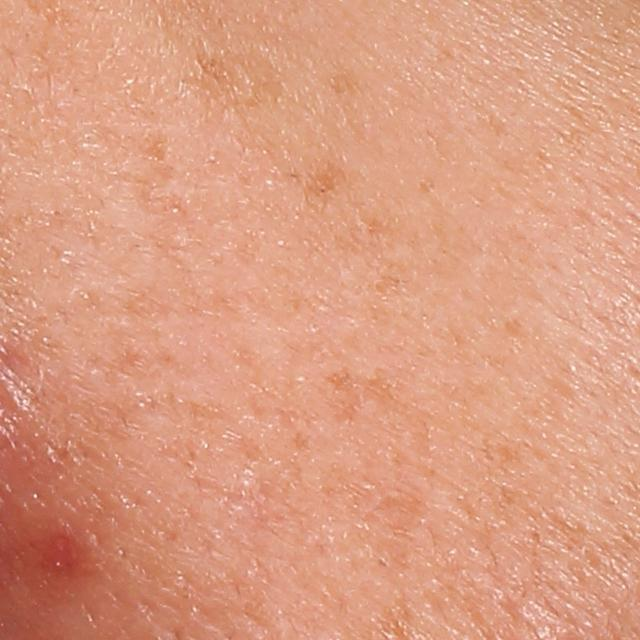melasma: (183, 52, 280, 108), (295, 165, 348, 202)
